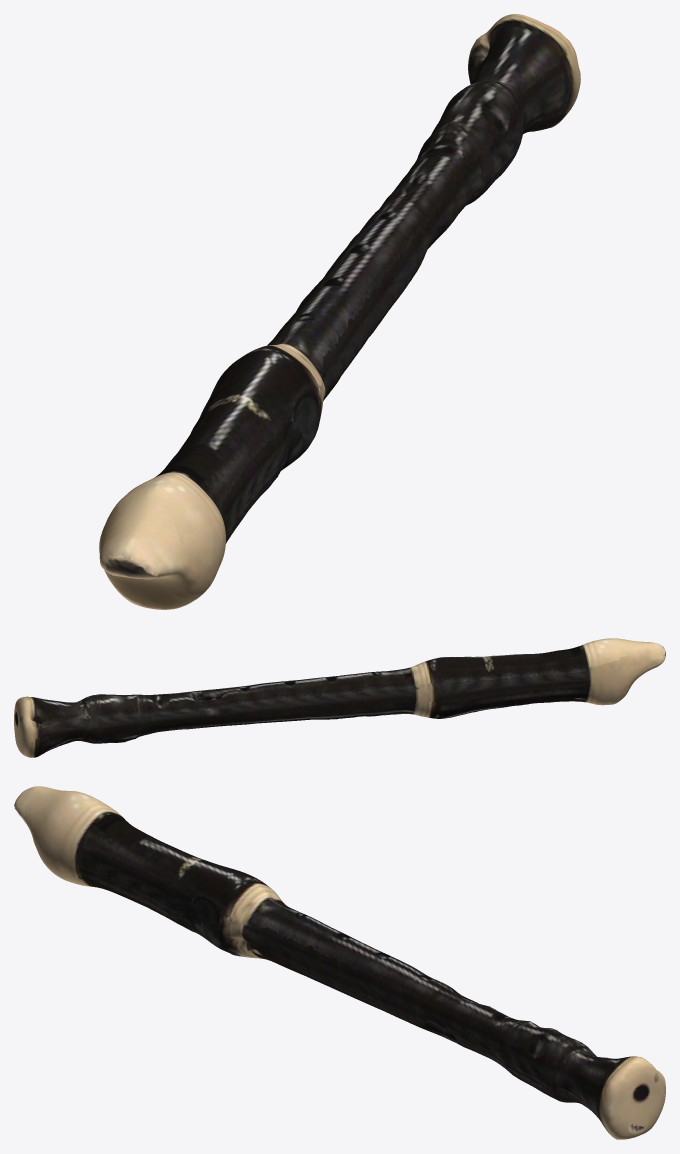
Rendered from flauta.gltf.
3 renders of one model, top to bottom at view 1: azimuth 30°, elevation 25°; view 2: azimuth 150°, elevation 25°; view 3: azimuth 270°, elevation 25°, orthographic. The views are drawn at different scales.
Parts seen in each view (by area): view 1: node-0; view 2: node-0; view 3: node-0.
Part boxes in pixels (box(x1,y1,x2,y2)): node-0: box(99, 14, 580, 609); node-0: box(14, 638, 665, 757); node-0: box(14, 786, 665, 1139).
Size of the model in its own units: 124 by 16.4 by 115.
Materials: 1 (1 with a texture image).
